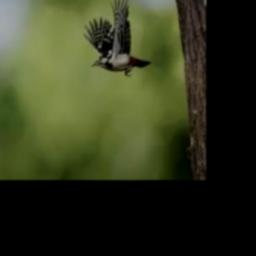Woodpecker: (83, 0, 150, 76)
